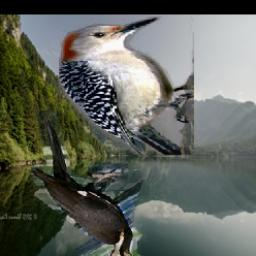Woodpecker: (30, 111, 159, 256), (58, 17, 193, 155)
